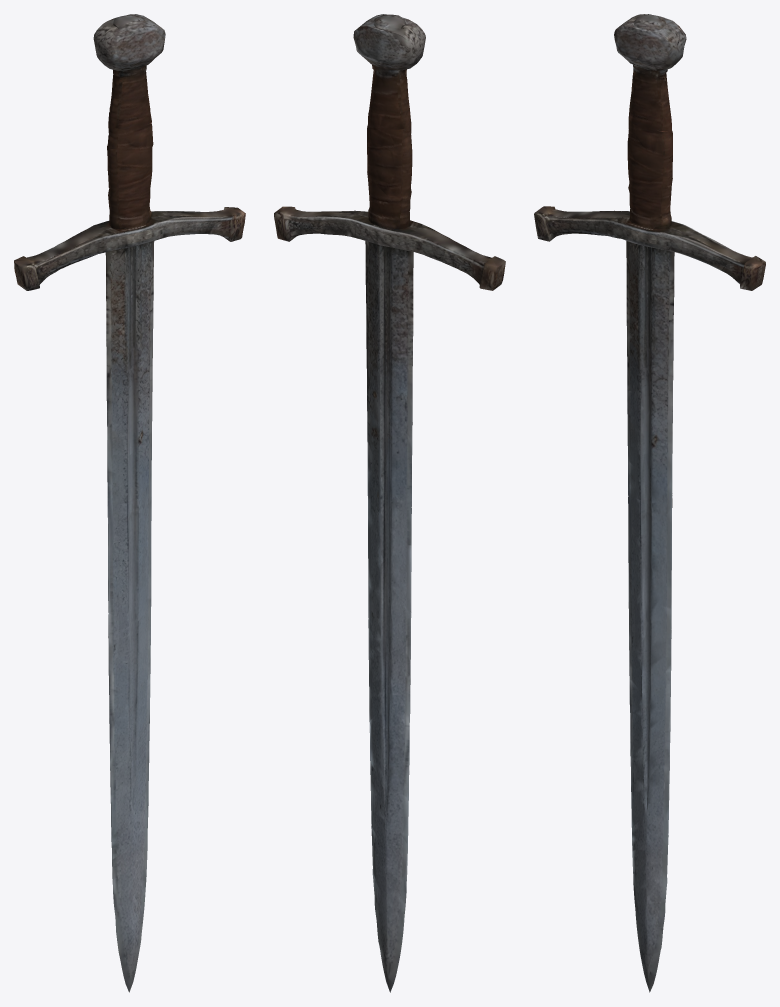
Rendered from longsword_sleipner.glb.
3 renders of one model, left to right at view 1: azimuth 30°, elevation 25°; view 2: azimuth 150°, elevation 25°; view 3: azimuth 330°, elevation 25°, orthographic.
Visible parts, largest first — view 1: medieval-longsword; view 2: medieval-longsword; view 3: medieval-longsword.
Boxes of the visible parts, x1,y1,x2,y2 form: medieval-longsword: (14, 14, 245, 992); medieval-longsword: (274, 14, 505, 992); medieval-longsword: (534, 14, 765, 992).
Bounding box in the file's own units: 0.2697 × 1.12 × 0.0519.
Materials: 1 (1 with a texture image).
